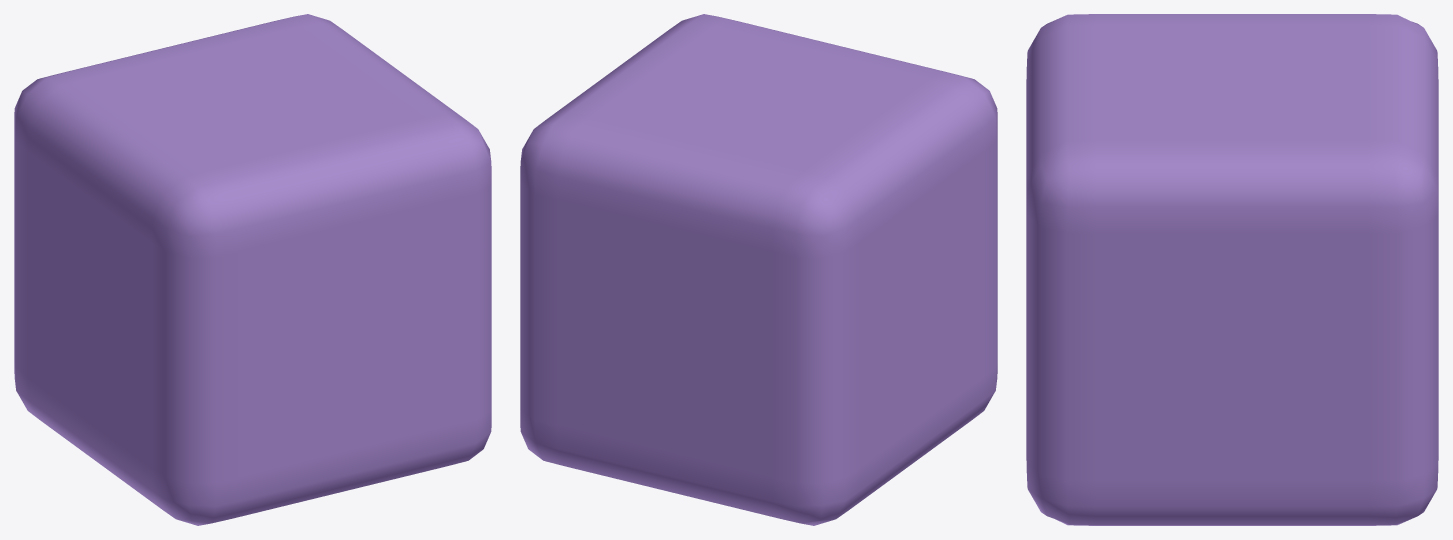
File: SoftBlockRim_v07.glb
The picture shows the model from 3 angles, left to right: view 1: azimuth 30°, elevation 25°; view 2: azimuth 150°, elevation 25°; view 3: azimuth 270°, elevation 25°; orthographic projection. The views are drawn at different scales.
Parts seen in each view (by area): view 1: SoftBlockRim; view 2: SoftBlockRim; view 3: SoftBlockRim.
Part boxes in pixels (x1=…): SoftBlockRim: x1=14, y1=14, x2=491, y2=525; SoftBlockRim: x1=520, y1=14, x2=997, y2=525; SoftBlockRim: x1=1026, y1=14, x2=1438, y2=525.
Size of the model in its own units: 1 by 1 by 1.
